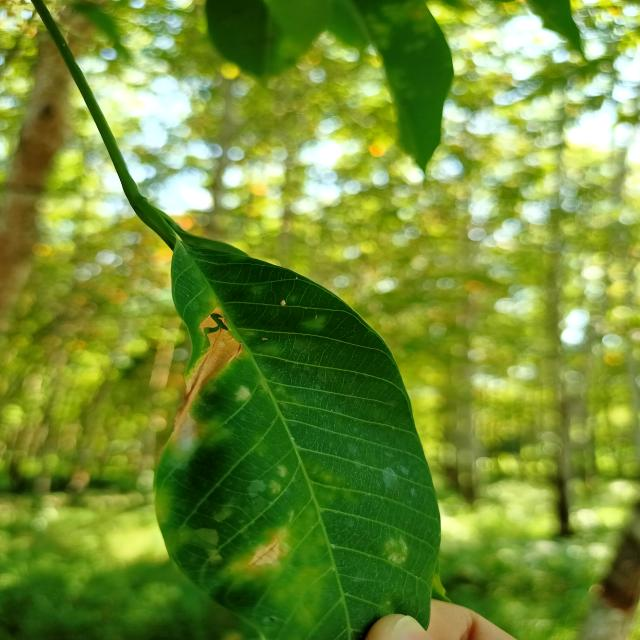Leaf-Blight: (175, 307, 241, 433), (248, 538, 281, 566)
